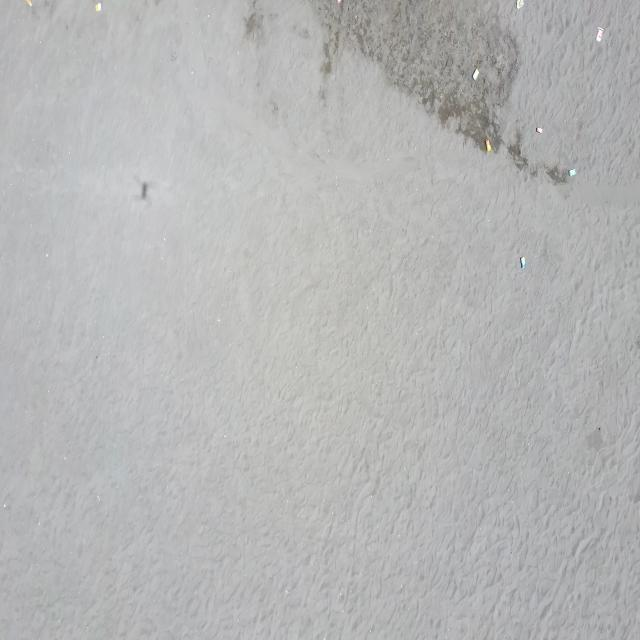Garbage: (595, 27, 604, 40), (486, 138, 492, 151), (515, 0, 524, 7), (472, 68, 477, 80), (568, 168, 575, 175), (95, 2, 100, 11), (520, 256, 524, 267), (24, 0, 31, 5), (535, 127, 541, 132), (336, 0, 340, 4)
